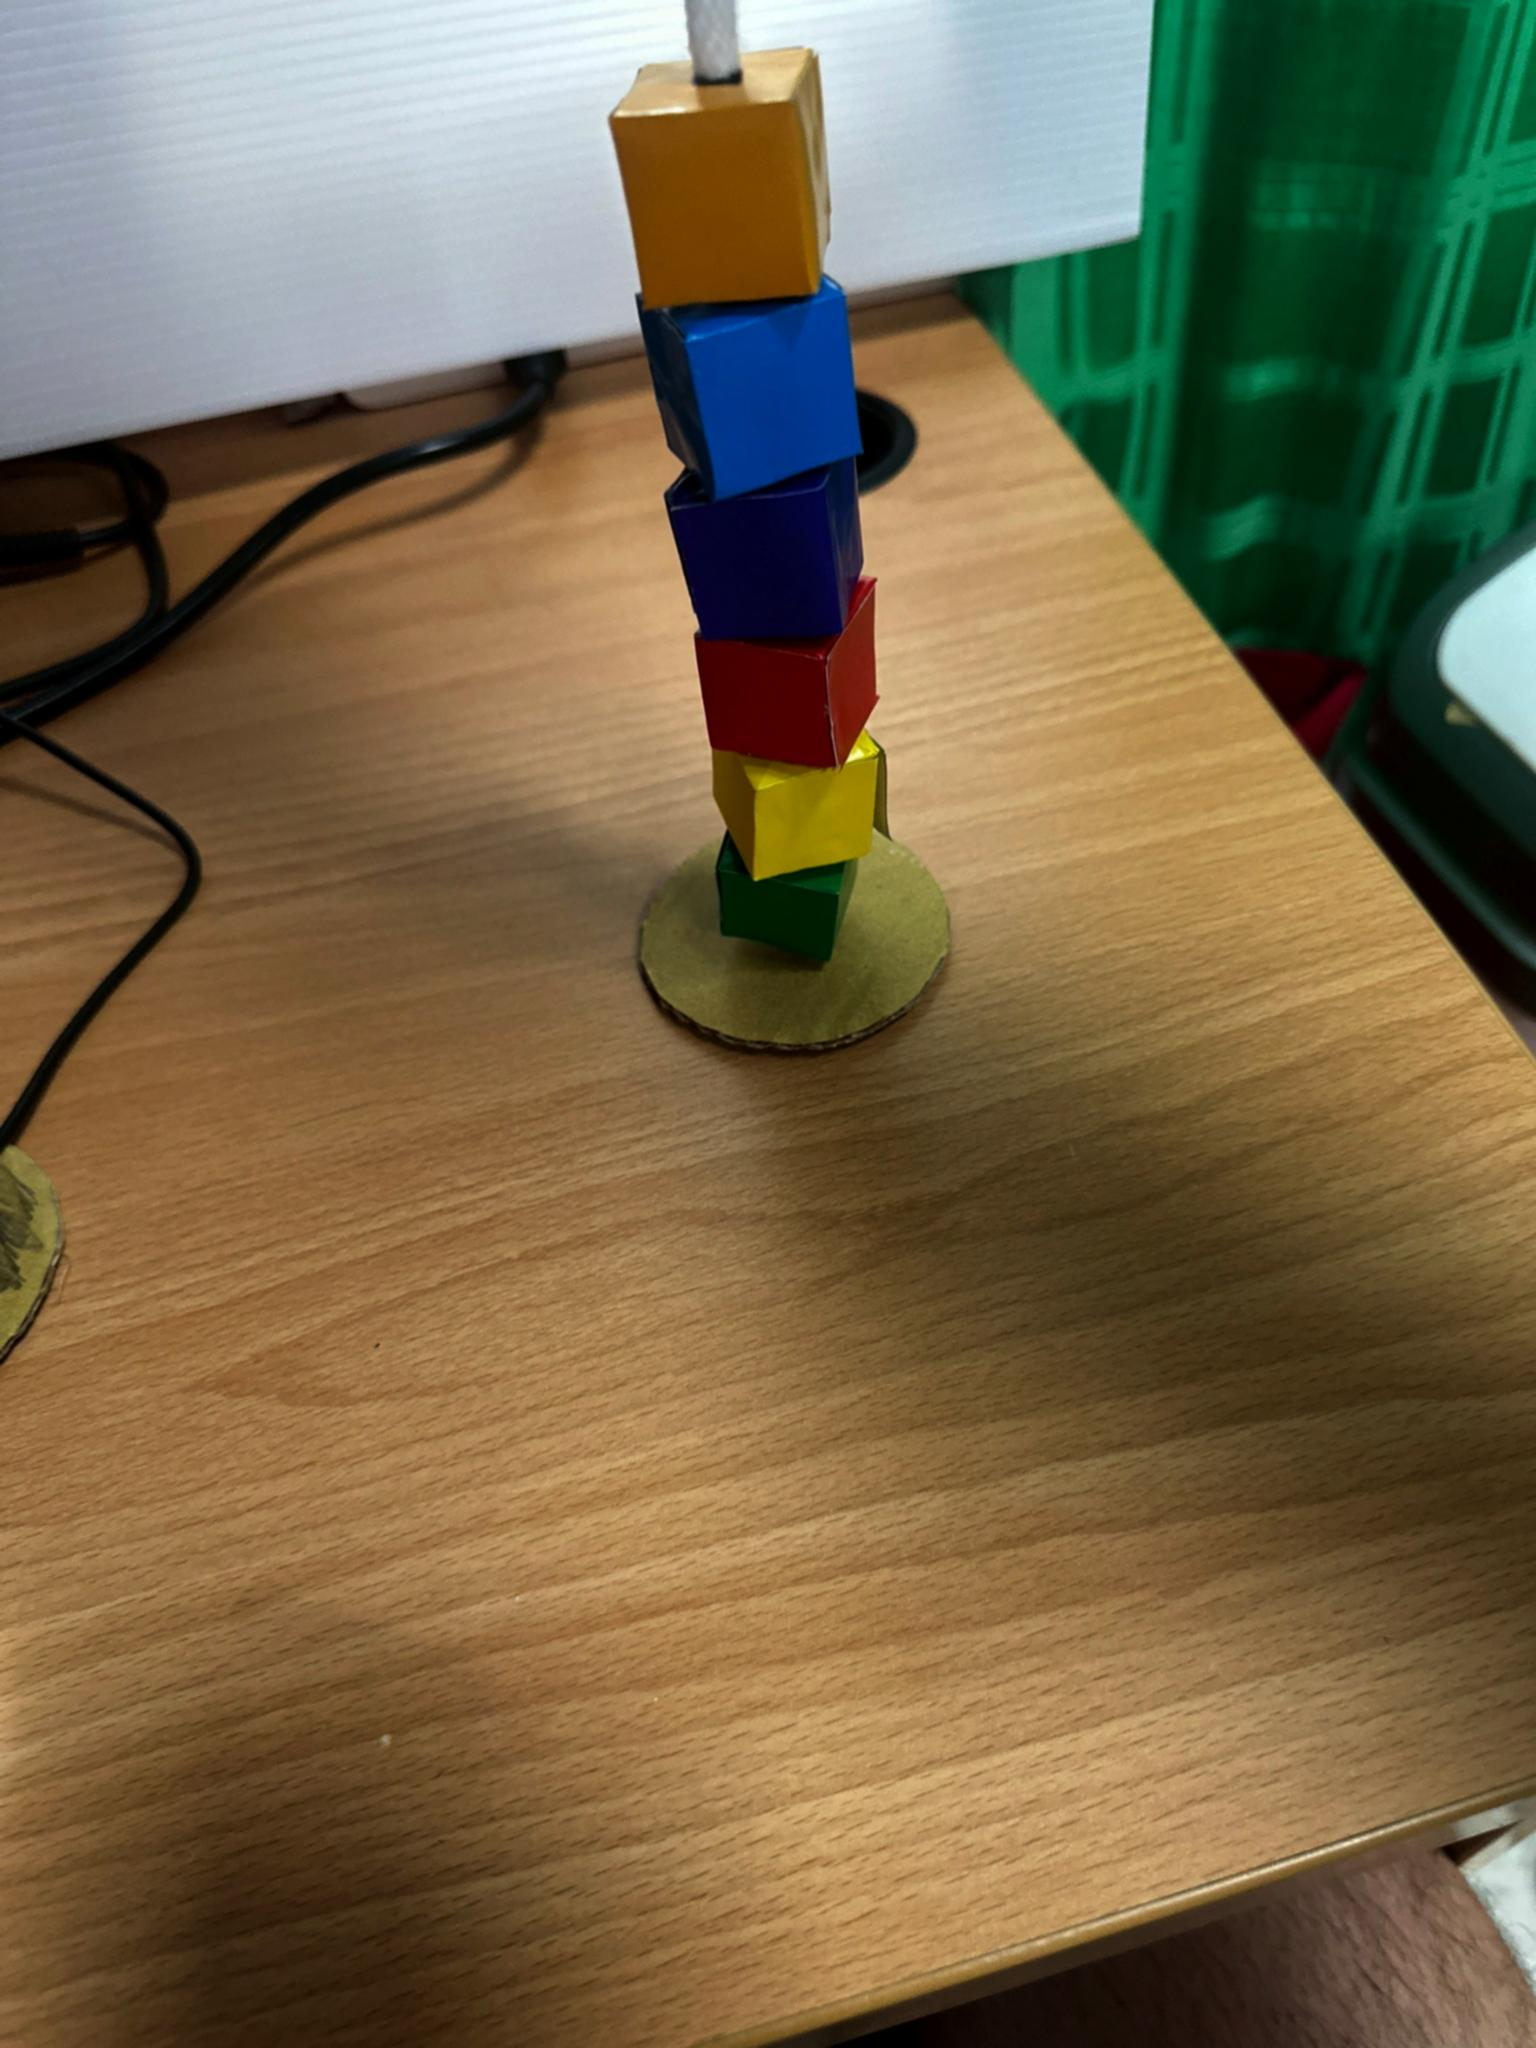base: (638, 832, 950, 1049)
